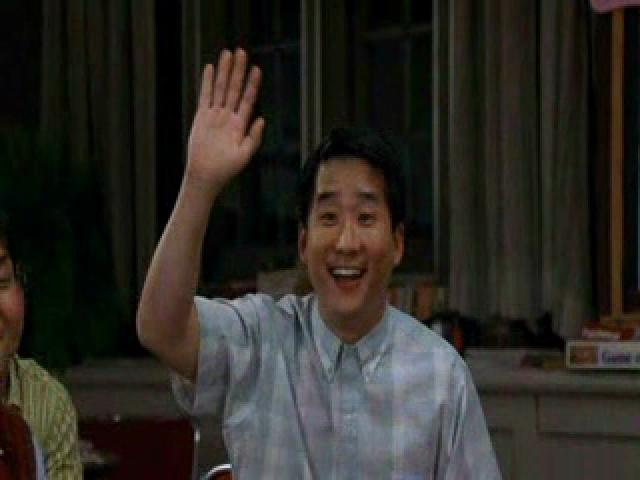T: (128, 37, 508, 480)
